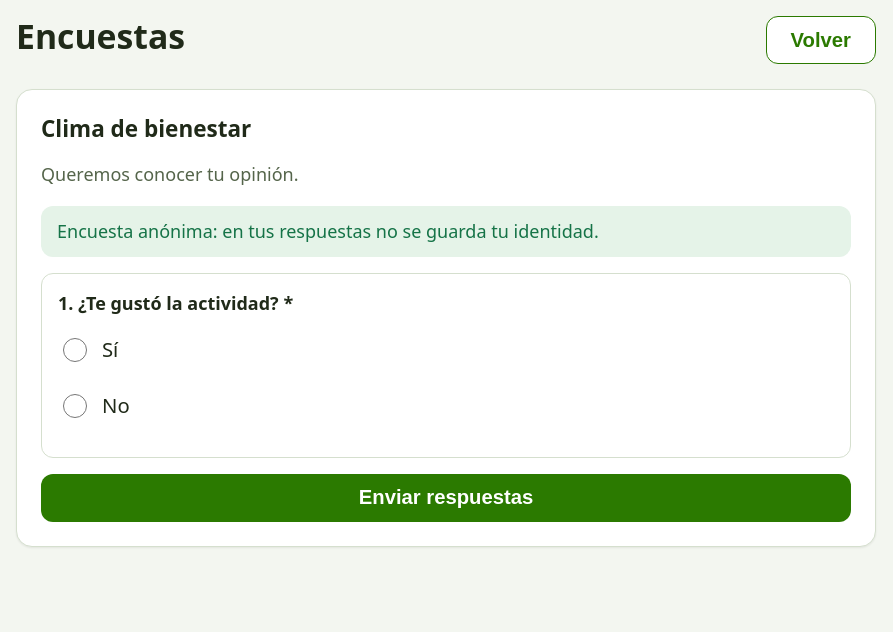
it: SurveyAnswerPage › envía las respuestas seleccionadas y confirma en pantalla
Click the radio button labelled "Sí" at (75,350), box x1=63 y1=338 x2=87 y2=362
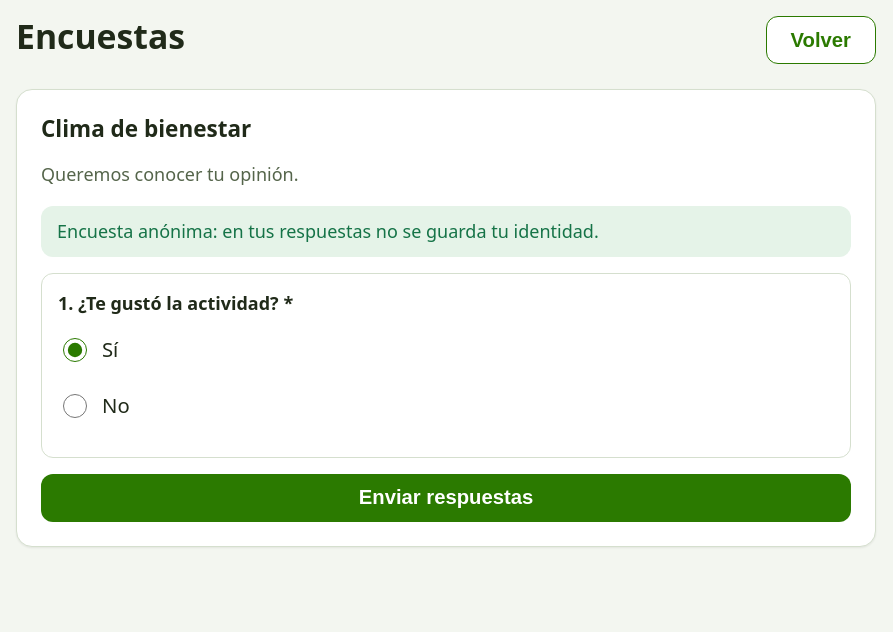
Click the button "Enviar respuestas" at (446,498), box x1=41 y1=474 x2=851 y2=522
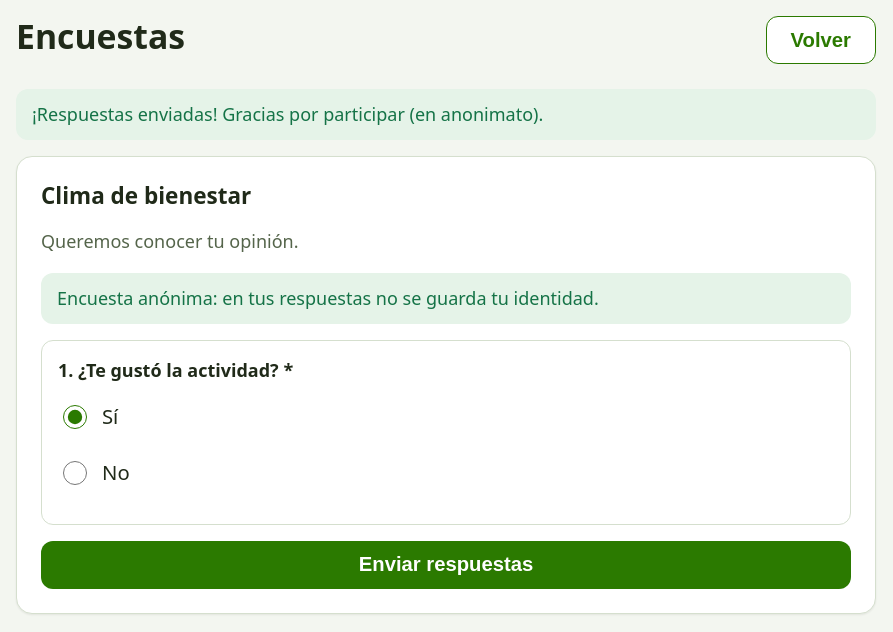
Expected: the text "¡Respuestas enviadas! Gracias por participar (en anonimato)." is shown, x1=16 y1=88 x2=876 y2=140
